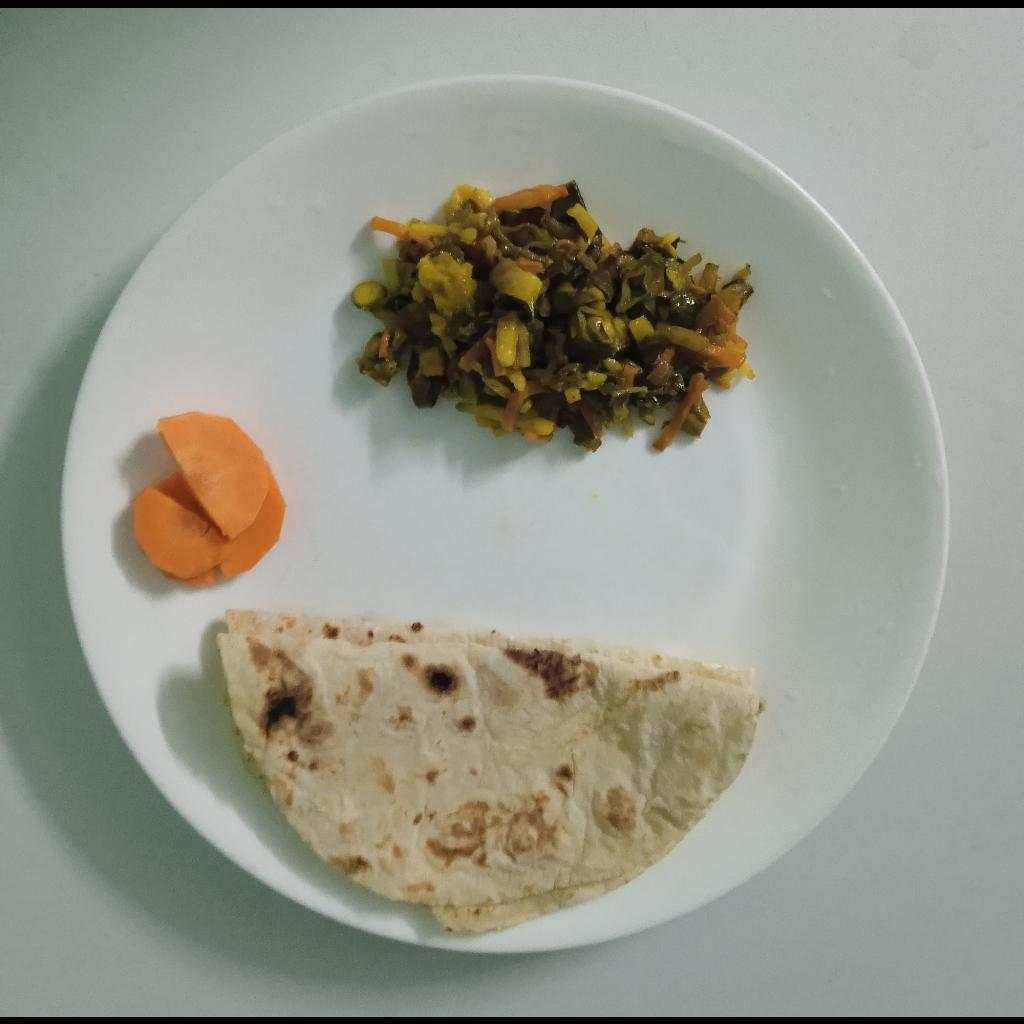carrot: (132, 411, 288, 580)
ruti: (223, 611, 765, 935)
shak: (356, 181, 746, 441)
